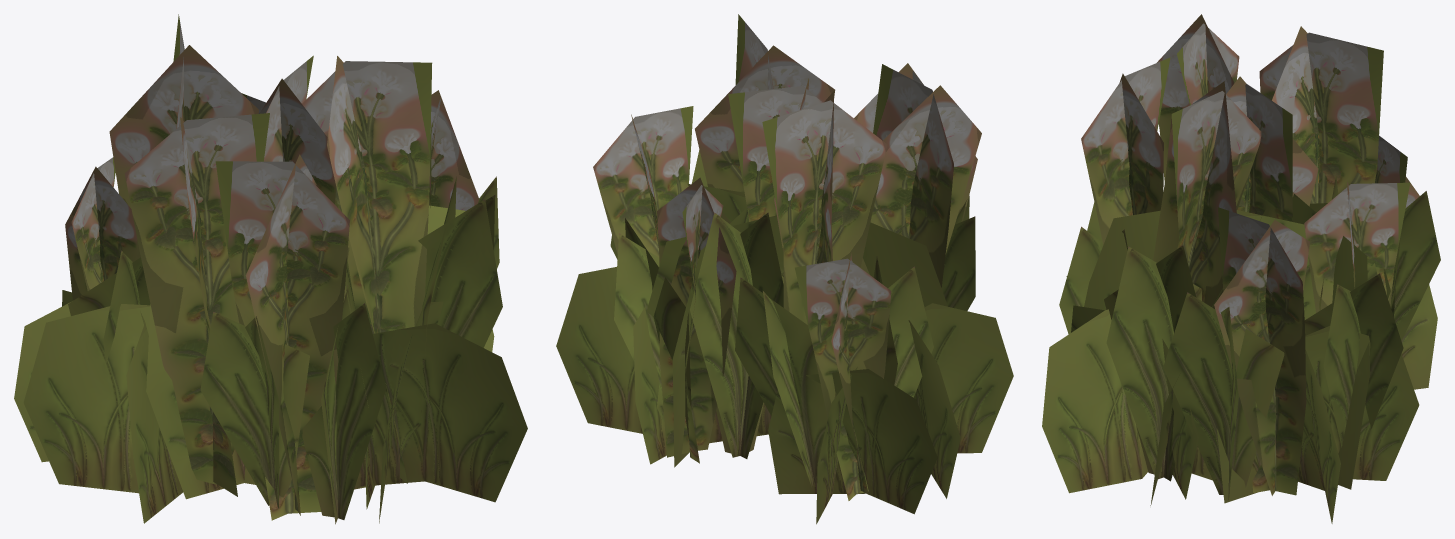
File: grassPatch11lod0.dae
3 views of the same model, side by side, from view 1: azimuth 30°, elevation 25°; view 2: azimuth 150°, elevation 25°; view 3: azimuth 270°, elevation 25° (orthographic). The views are drawn at different scales.
Visible parts, largest first — view 1: SM_Grass_Patch_11_LOD; view 2: SM_Grass_Patch_11_LOD; view 3: SM_Grass_Patch_11_LOD.
Part boxes in pixels (box(x1,y1,x2,y2)): SM_Grass_Patch_11_LOD: box(14, 14, 527, 524); SM_Grass_Patch_11_LOD: box(556, 14, 1013, 524); SM_Grass_Patch_11_LOD: box(1042, 14, 1440, 523).
Bounding box in the file's own units: 1.13 × 1.03 × 0.9607.
Materials: 1 (1 with a texture image).
